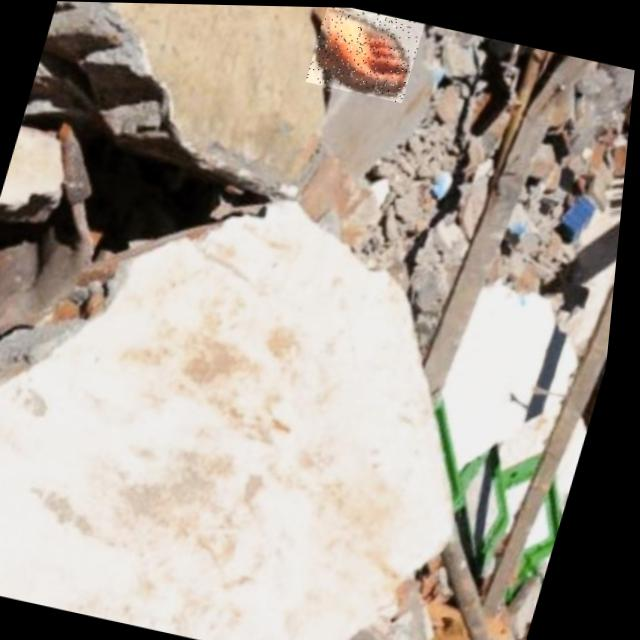Person in Rubble: (304, 5, 425, 101)
